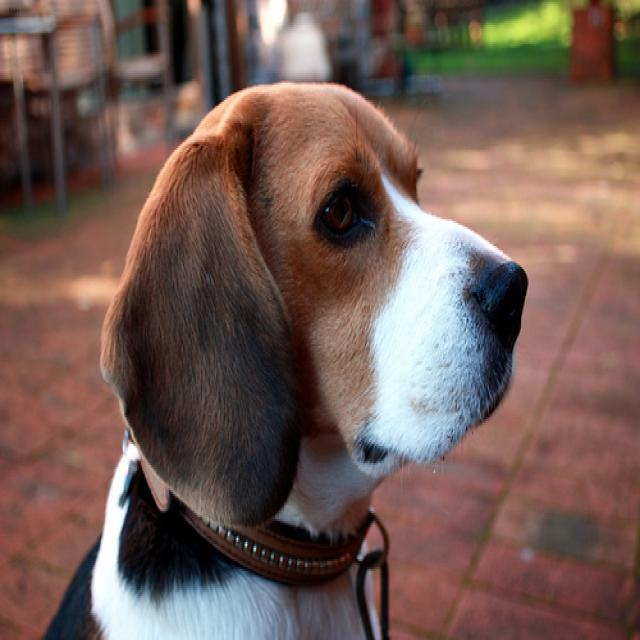dog-beagle: (33, 71, 538, 636)
